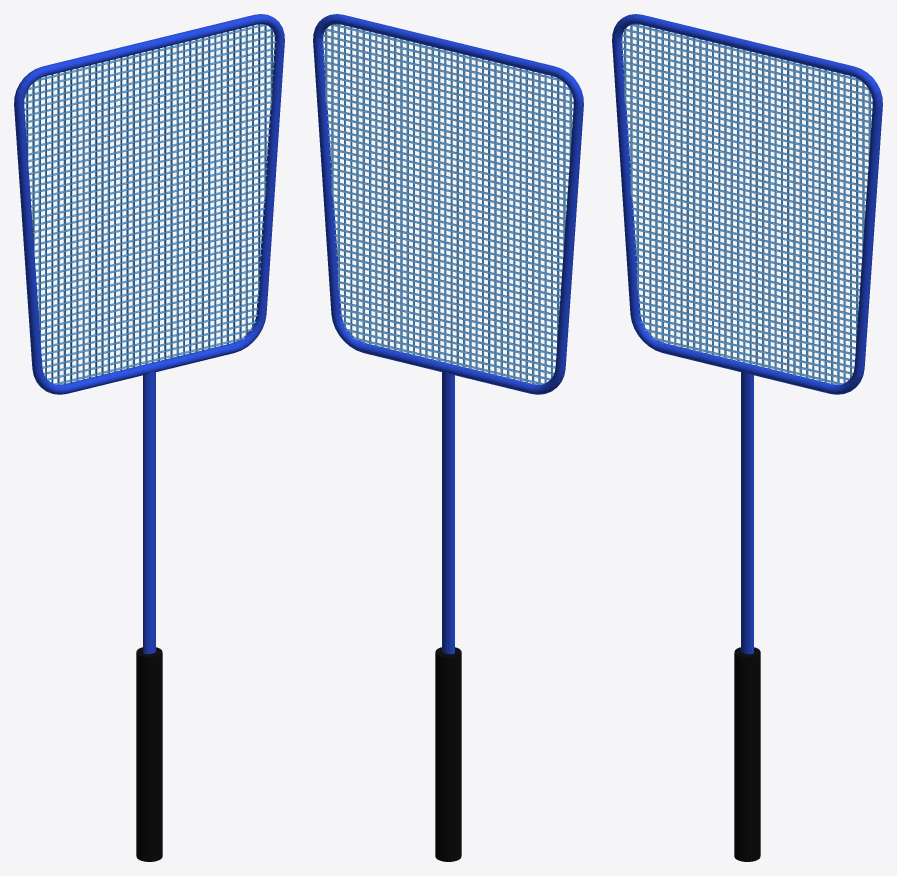
Rendered from swatter.fbx.
3 views of the same model, side by side, from view 1: azimuth 30°, elevation 25°; view 2: azimuth 150°, elevation 25°; view 3: azimuth 330°, elevation 25° (orthographic).
Parts seen in each view (by area): view 1: Grid, Frame, Handle, Shaft; view 2: Grid, Frame, Handle, Shaft; view 3: Grid, Frame, Handle, Shaft.
Part boxes in pixels (box(x1,y1,x2,y2)): Grid: box(24, 24, 275, 384); Frame: box(14, 14, 284, 394); Handle: box(136, 647, 162, 861); Shaft: box(143, 371, 155, 654); Grid: box(322, 24, 573, 384); Frame: box(313, 14, 583, 394); Handle: box(435, 647, 461, 861); Shaft: box(442, 371, 454, 654); Grid: box(621, 24, 872, 384); Frame: box(612, 14, 882, 394); Handle: box(734, 647, 760, 861); Shaft: box(741, 371, 753, 654).
Size of the model in its own units: 220 by 637 by 18.47.
